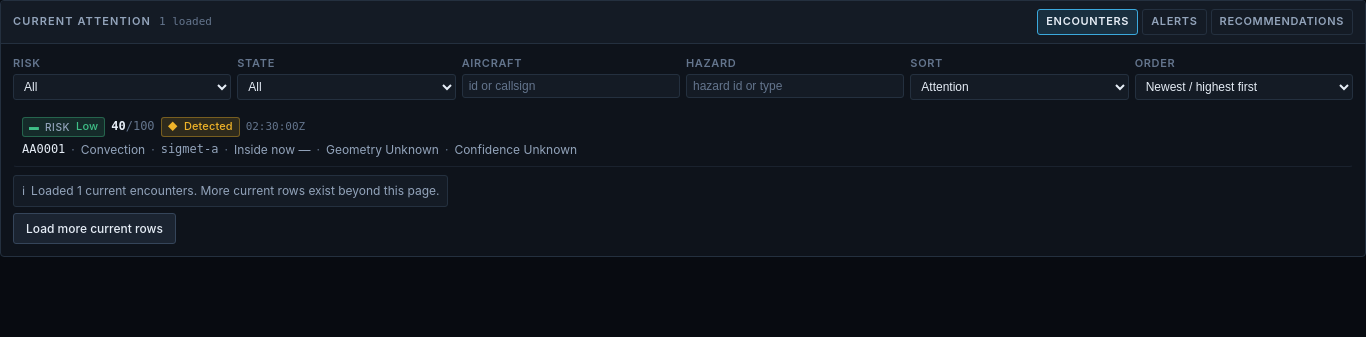
OperationalWorklist › reports a pagination failure without replacing loaded current rows
Expected: the text "AA0001" is shown, [22,141,65,158]
Step 1. Click the button "Load more current rows" → (94, 228), box [13,213,176,244]
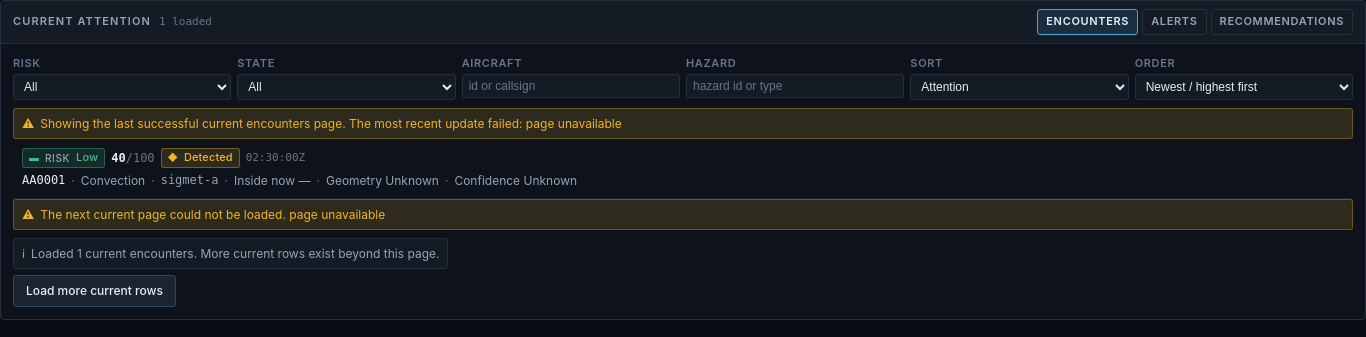
Expected: the text "AA0001" is shown, [22,172,65,190]
Result: the text "The next current page could not be loaded. page unavailable" is shown at [40,206,385,223]
